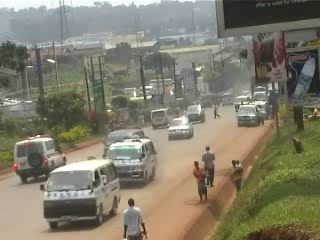Car: (11, 135, 67, 185), (165, 116, 194, 140), (183, 103, 208, 123)
